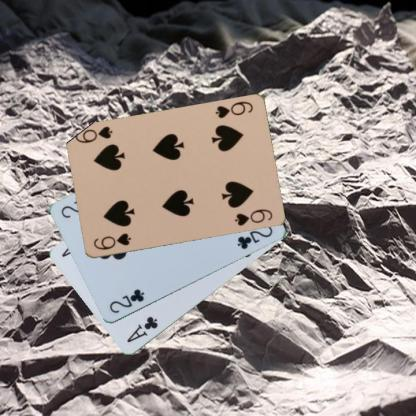2c: (106, 286, 146, 315)
6s: (90, 231, 132, 252), (213, 99, 254, 120)
Ac: (124, 314, 160, 344)
